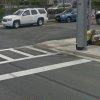Crosswalk: (0, 38, 50, 70)
